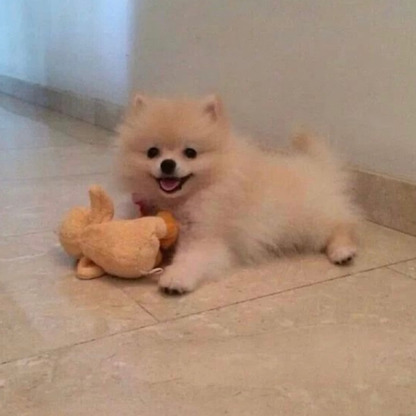Pomeranian: (73, 91, 392, 299)
